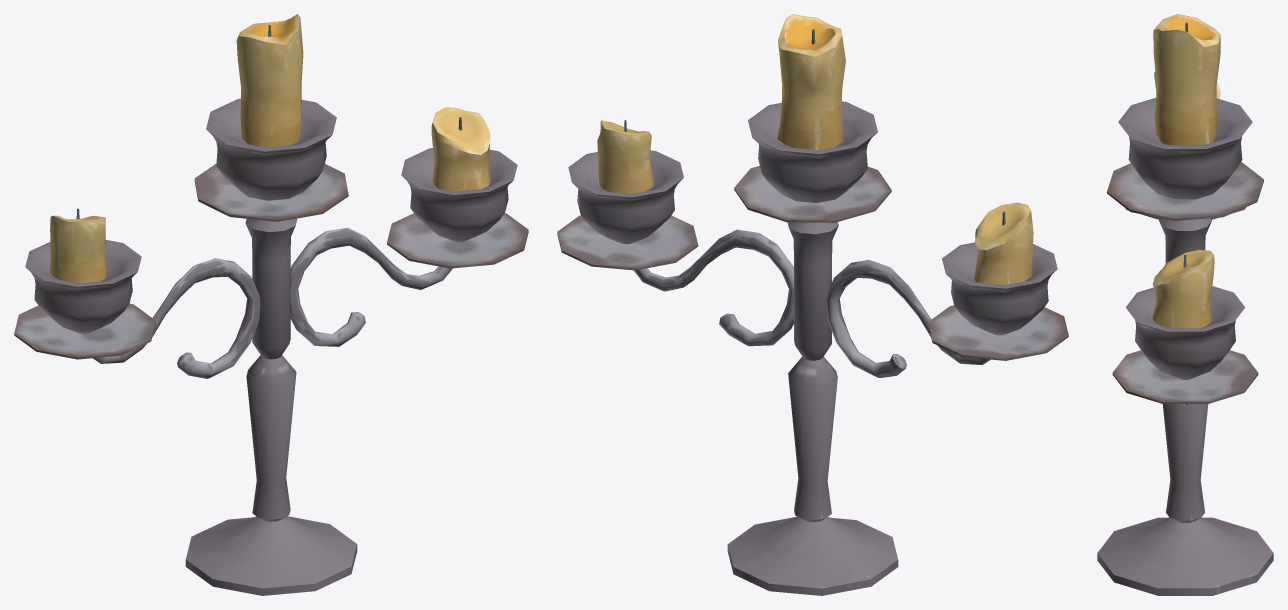
The model's file is CandleStick_Triple.glb.
3 renders of one model, left to right at view 1: azimuth 30°, elevation 25°; view 2: azimuth 150°, elevation 25°; view 3: azimuth 270°, elevation 25°, orthographic.
Parts seen in each view (by area): view 1: CandleStick_Triple; view 2: CandleStick_Triple; view 3: CandleStick_Triple.
Part boxes in pixels (x1=…): CandleStick_Triple: x1=14, y1=14, x2=528, y2=595; CandleStick_Triple: x1=557, y1=14, x2=1068, y2=595; CandleStick_Triple: x1=1097, y1=14, x2=1273, y2=595.
Bounding box in the file's own units: 0.4423 × 0.4633 × 0.1364.
Materials: 2 (2 with a texture image).
